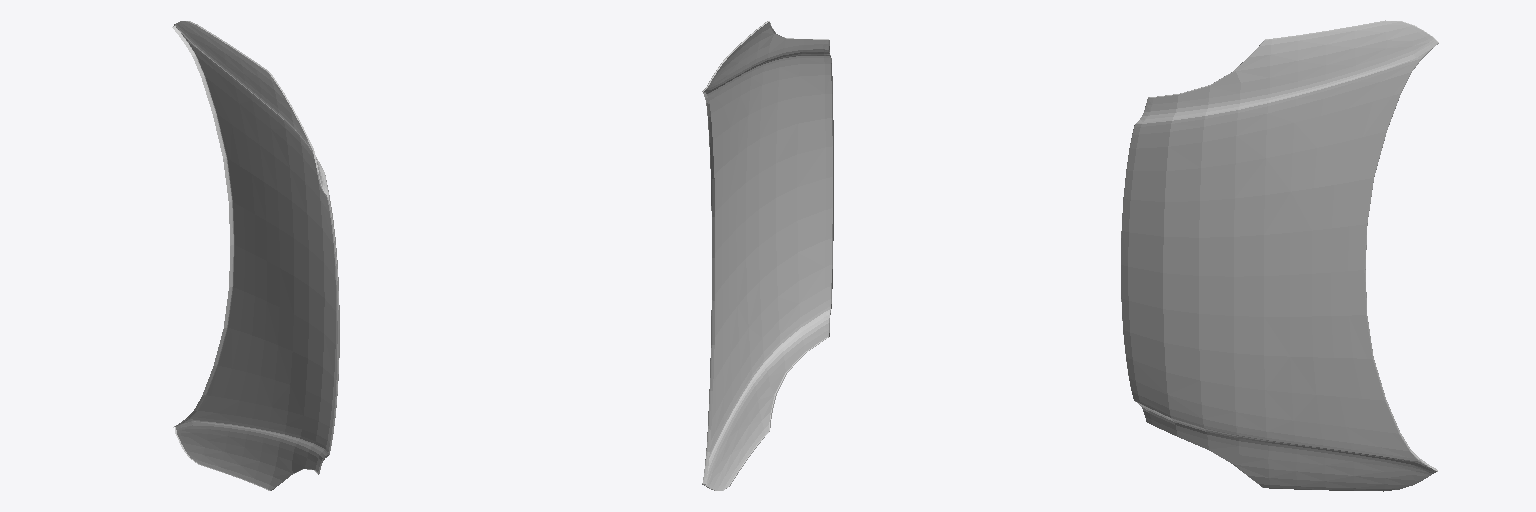
robot.urdf — carDoor:
<?xml version="1.0"?>
<robot name="carDoor">
  <link name="carDoor_base_link">

    <visual>
      <origin rpy="0 0 0" xyz="0.0 0.0 0.0"/>
      <geometry>
          <mesh filename="bonnet.obj" scale="1 1 1"/>
      </geometry>
      <material name="gray">
        <color rgba="0.8 0.8 0.8 1"/>
      </material>
    </visual>
    <collision>
      <origin rpy="0 0 0" xyz="0.0 0.0 0.0"/>
      <geometry>
          <mesh filename="bonnet.obj" scale="1 1 1"/>
      </geometry>
    </collision>
  </link>
</robot>

--- Facts derived from the render (not from the file) ---
The picture shows the robot from 3 angles, left to right: view 1: azimuth 30°, elevation 25°; view 2: azimuth 150°, elevation 25°; view 3: azimuth 270°, elevation 25°; orthographic projection.
Robot: carDoor — 1 links, 0 joints (none); root link carDoor_base_link; default pose: every joint at zero.
Links seen in each view (by area): view 1: carDoor_base_link; view 2: carDoor_base_link; view 3: carDoor_base_link.
Link boxes in pixels (x1,y1,x2,y2): carDoor_base_link: [172, 21, 339, 490]; carDoor_base_link: [702, 21, 833, 490]; carDoor_base_link: [1121, 20, 1438, 491].
Bounding box of the posed robot: 0.1216 × 0.7275 × 1.19 m (x, y, z).
1 mesh visuals loaded from 1 distinct referenced files (1 OBJ).